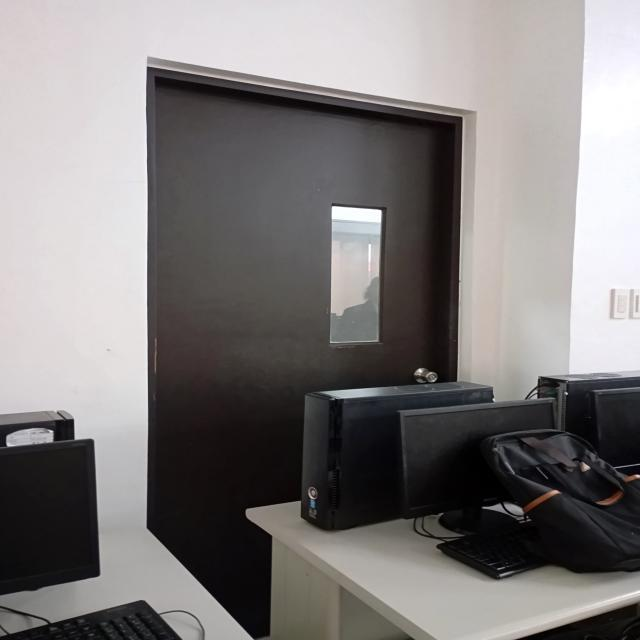door: (115, 42, 485, 564)
